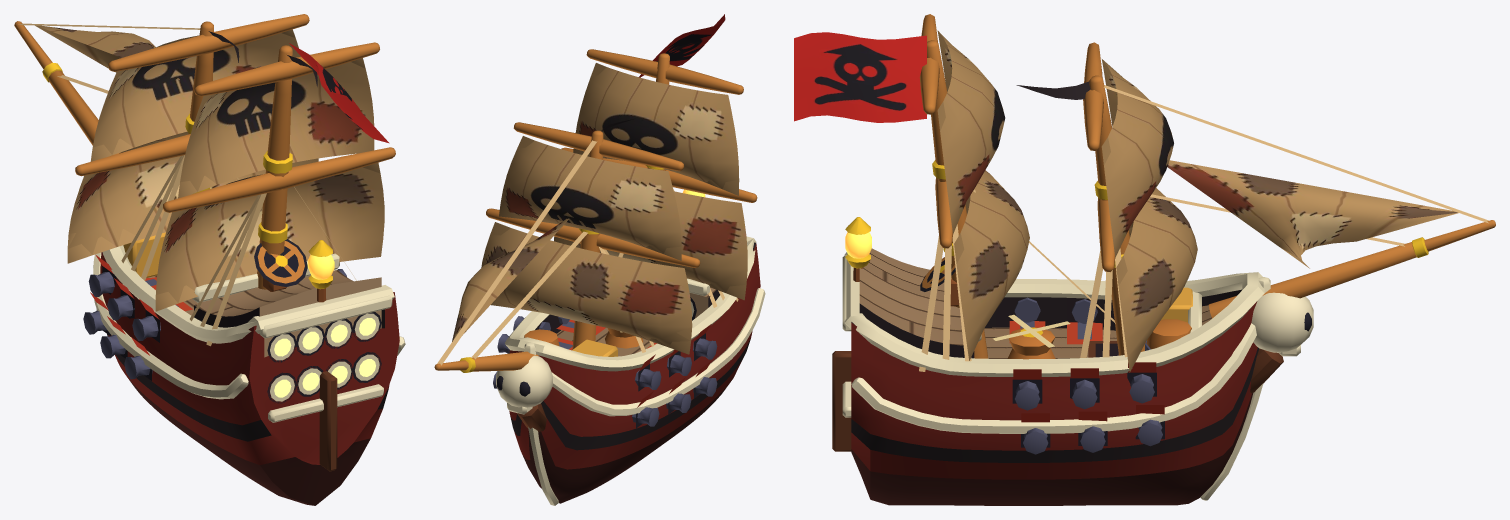
Rendered from brethren_galleon.glb.
The picture shows the model from 3 angles, left to right: view 1: azimuth 30°, elevation 25°; view 2: azimuth 150°, elevation 25°; view 3: azimuth 270°, elevation 25°; orthographic projection. The views are drawn at different scales.
Parts seen in each view (by area): view 1: Hull, Rigging, Sail1_0, Sail1_1, Sail0_1, Sail0_0, Guns0, Jib, Flag; view 2: Hull, Sail0_0, Rigging, Sail0_1, Sail1_1, Sail1_0, Guns0, Jib, Flag; view 3: Hull, Rigging, Jib, Flag, Sail0_0, Sail1_0, Sail0_1, Sail1_1, Guns0.
Boxes of the visible parts, x1=… form: Hull: x1=90, y1=232, x2=405, y2=505; Rigging: x1=14, y1=14, x2=395, y2=346; Sail1_0: x1=155, y1=163, x2=384, y2=311; Sail1_1: x1=178, y1=58, x2=374, y2=198; Sail0_1: x1=90, y1=29, x2=300, y2=161; Sail0_0: x1=67, y1=131, x2=318, y2=263; Guns0: x1=83, y1=269, x2=346, y2=379; Jib: x1=35, y1=25, x2=179, y2=80; Flag: x1=289, y1=43, x2=389, y2=143; Hull: x1=496, y1=189, x2=765, y2=505; Sail0_0: x1=481, y1=222, x2=692, y2=354; Rigging: x1=434, y1=41, x2=757, y2=372; Sail0_1: x1=499, y1=136, x2=681, y2=260; Sail1_1: x1=573, y1=63, x2=739, y2=195; Sail1_0: x1=554, y1=191, x2=747, y2=300; Guns0: x1=493, y1=316, x2=717, y2=426; Jib: x1=452, y1=218, x2=568, y2=341; Flag: x1=639, y1=14, x2=725, y2=77; Hull: x1=832, y1=217, x2=1313, y2=505; Rigging: x1=919, y1=14, x2=1495, y2=371; Jib: x1=1167, y1=160, x2=1458, y2=268; Flag: x1=794, y1=32, x2=926, y2=122; Sail0_0: x1=1116, y1=188, x2=1197, y2=372; Sail1_0: x1=954, y1=170, x2=1029, y2=360; Sail0_1: x1=1101, y1=59, x2=1173, y2=257; Sail1_1: x1=937, y1=30, x2=1005, y2=234; Guns0: x1=1009, y1=297, x2=1162, y2=454.
Size of the model in its own units: 1.5 by 2.55 by 3.45.
Materials: 9 (4 with a texture image).
